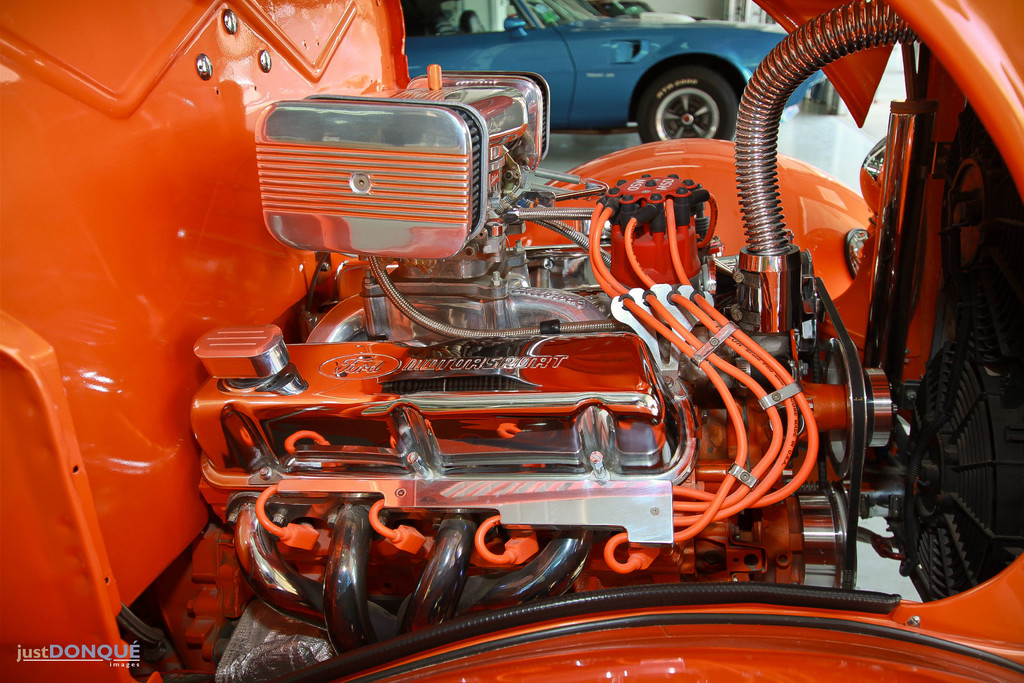Car: (394, 0, 832, 147)
